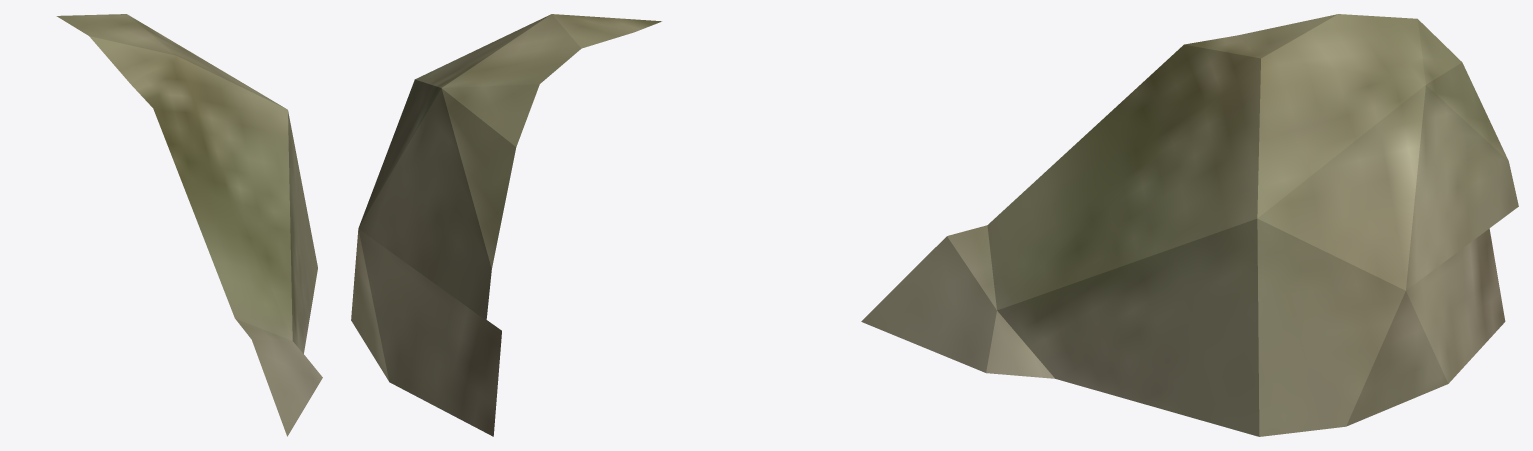
3 views of the same model, side by side, from view 1: azimuth 30°, elevation 25°; view 2: azimuth 150°, elevation 25°; view 3: azimuth 270°, elevation 25° (orthographic). The views are drawn at different scales.
Bounding box in the file's own units: 0.1373 × 0.171 × 0.3313.
Materials: 1 (1 with a texture image).
